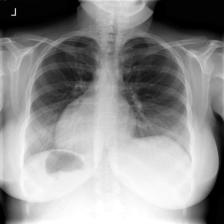normal: (23, 27, 198, 173)
